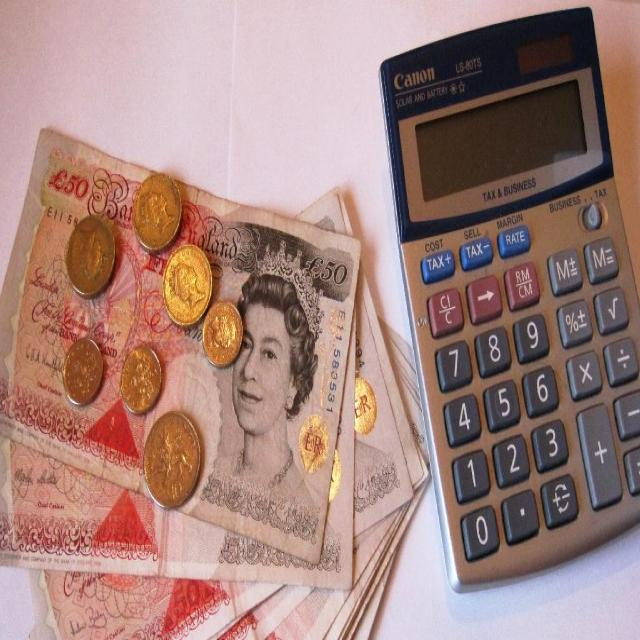Calculator: (376, 4, 640, 596), (378, 6, 640, 595)
